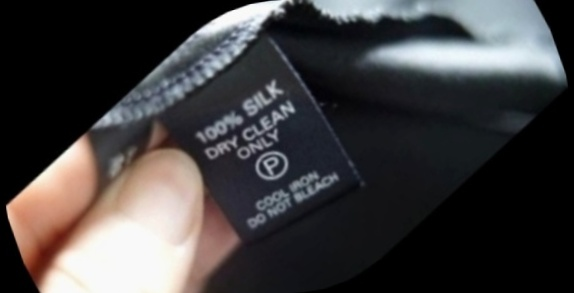dry_clean_any_solvent_except_trichloroethylene: (237, 129, 308, 199)
